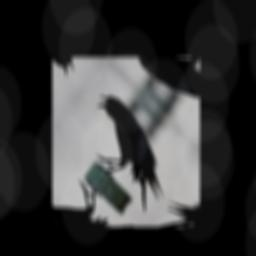Crow: (69, 86, 186, 217)
